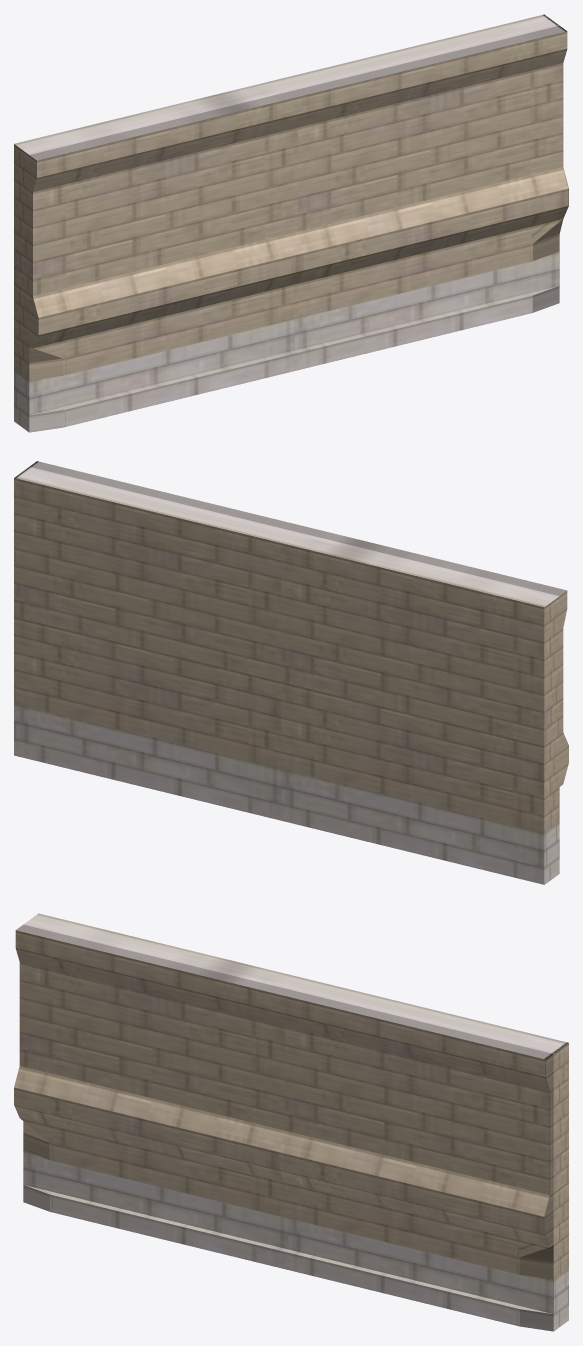
File: brick_wall.fbx
3 renders of one model, top to bottom at view 1: azimuth 30°, elevation 25°; view 2: azimuth 150°, elevation 25°; view 3: azimuth 330°, elevation 25°, orthographic.
Parts seen in each view (by area): view 1: Cube; view 2: Cube; view 3: Cube.
Boxes of the visible parts, x1,y1,x2,y2 form: Cube: [14, 14, 568, 432]; Cube: [14, 461, 568, 884]; Cube: [14, 913, 568, 1331].
Bounding box in the file's own units: 4000 × 2000 × 321.
Materials: 1 (1 with a texture image).
